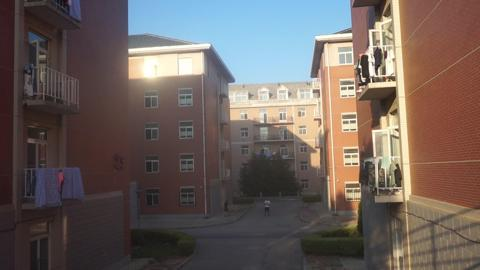UAV: (240, 138, 246, 143)
